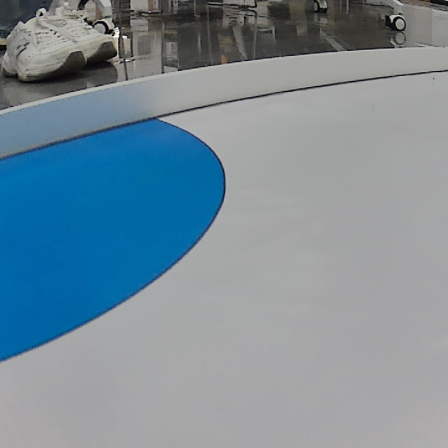blue_base: (0, 115, 226, 363)
